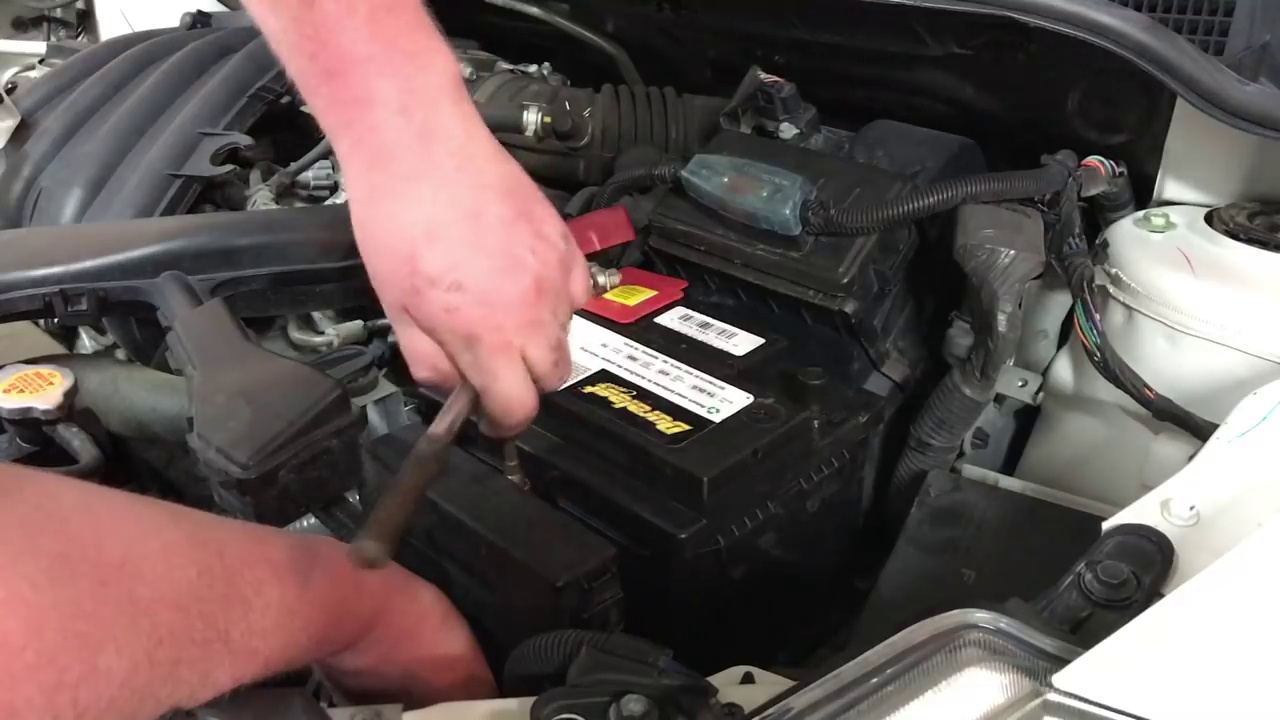battery: (435, 258, 836, 486)
pos_touched: (499, 199, 686, 345)
